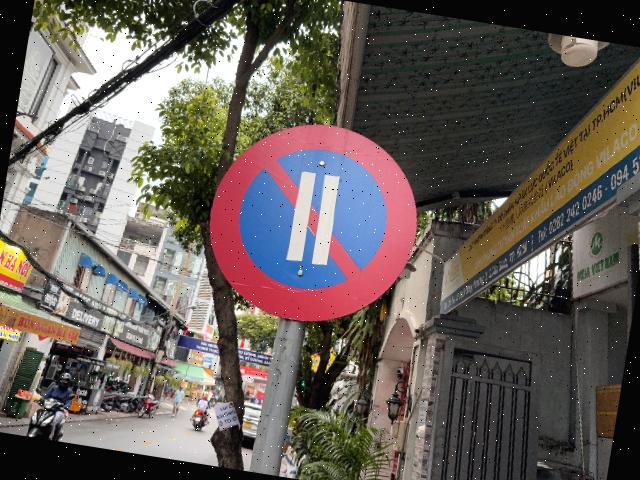cam-do-xe-ngay-chan: (198, 109, 432, 337)
